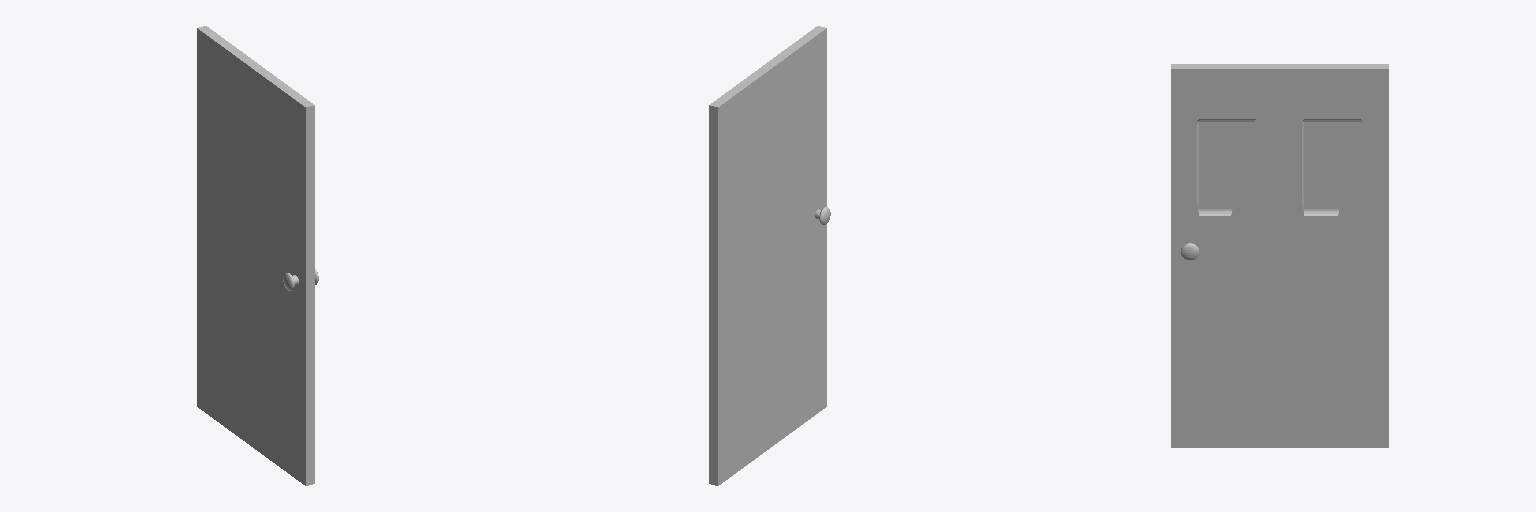
Rendered from Door.obj.
3 views of the same model, side by side, from view 1: azimuth 30°, elevation 25°; view 2: azimuth 150°, elevation 25°; view 3: azimuth 270°, elevation 25° (orthographic).
Visible parts, largest first — view 1: Cube_Cube.001; view 2: Cube_Cube.001; view 3: Cube_Cube.001.
Part boxes in pixels (x1,y1,x2,y2): Cube_Cube.001: (197, 26, 314, 485); Cube_Cube.001: (709, 26, 826, 485); Cube_Cube.001: (1171, 64, 1388, 447).
Size of the model in its own units: 0.6584 by 7.81 by 4.06.